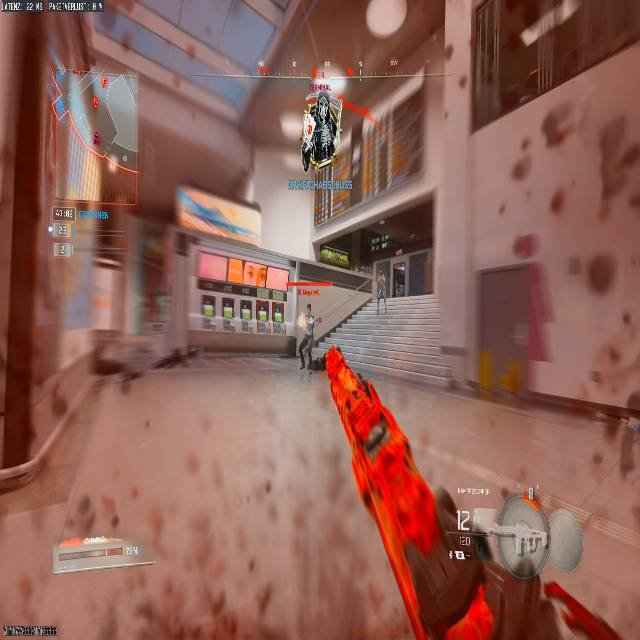head: (305, 303, 312, 312)
player: (299, 88, 340, 170), (296, 304, 317, 369), (375, 271, 387, 314)
